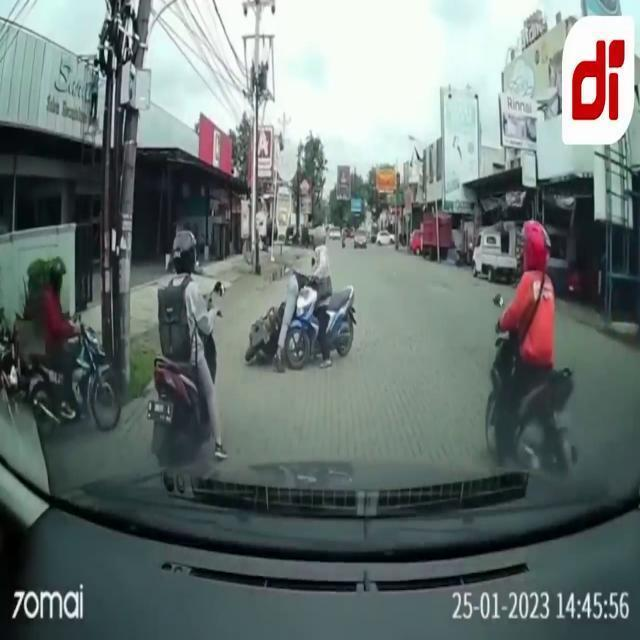accident: (242, 229, 360, 371)
non-accident: (353, 228, 399, 250)
